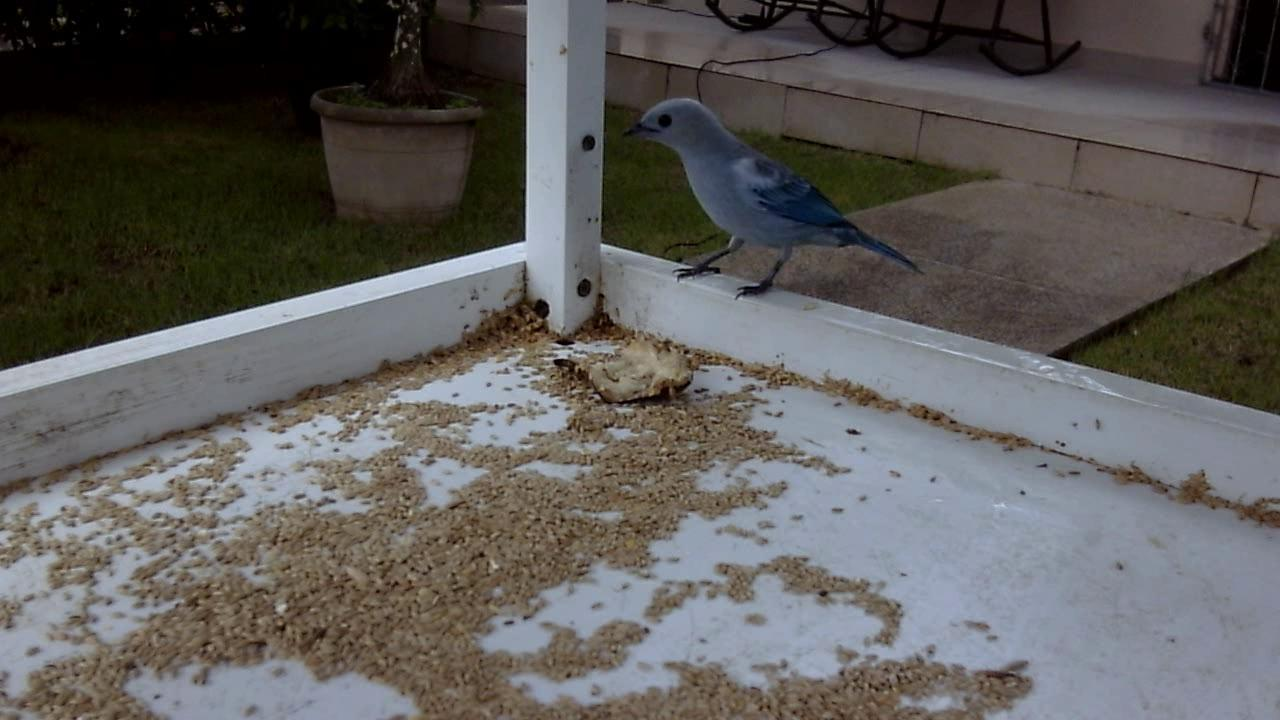sanhaco_da_amazonia: (621, 85, 928, 315)
